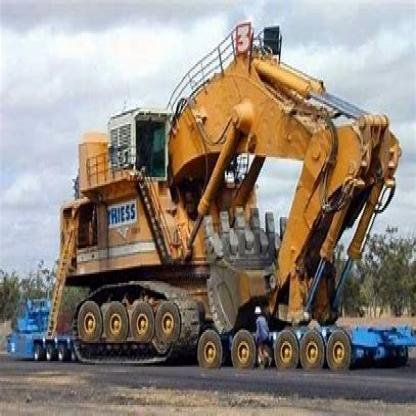excavator: (59, 24, 401, 374)
